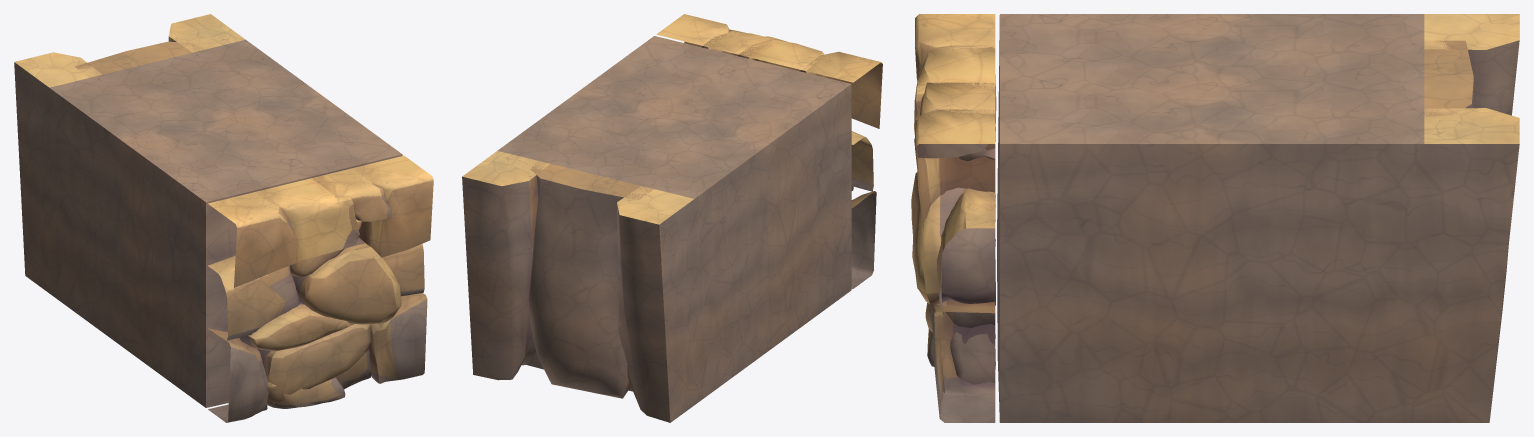
File: T04_BareRockCore_V4.fbx
3 views of the same model, side by side, from view 1: azimuth 30°, elevation 25°; view 2: azimuth 150°, elevation 25°; view 3: azimuth 270°, elevation 25° (orthographic). The views are drawn at different scales.
Visible parts, largest first — view 1: T04_BareRockCore_V4; view 2: T04_BareRockCore_V4; view 3: T04_BareRockCore_V4.
Boxes of the visible parts, box(x1,y1,x2,y2) form: T04_BareRockCore_V4: box(14, 14, 433, 422); T04_BareRockCore_V4: box(462, 14, 882, 422); T04_BareRockCore_V4: box(911, 14, 1519, 422).
Bounding box in the file's own units: 2 × 2.02 × 3.95.
